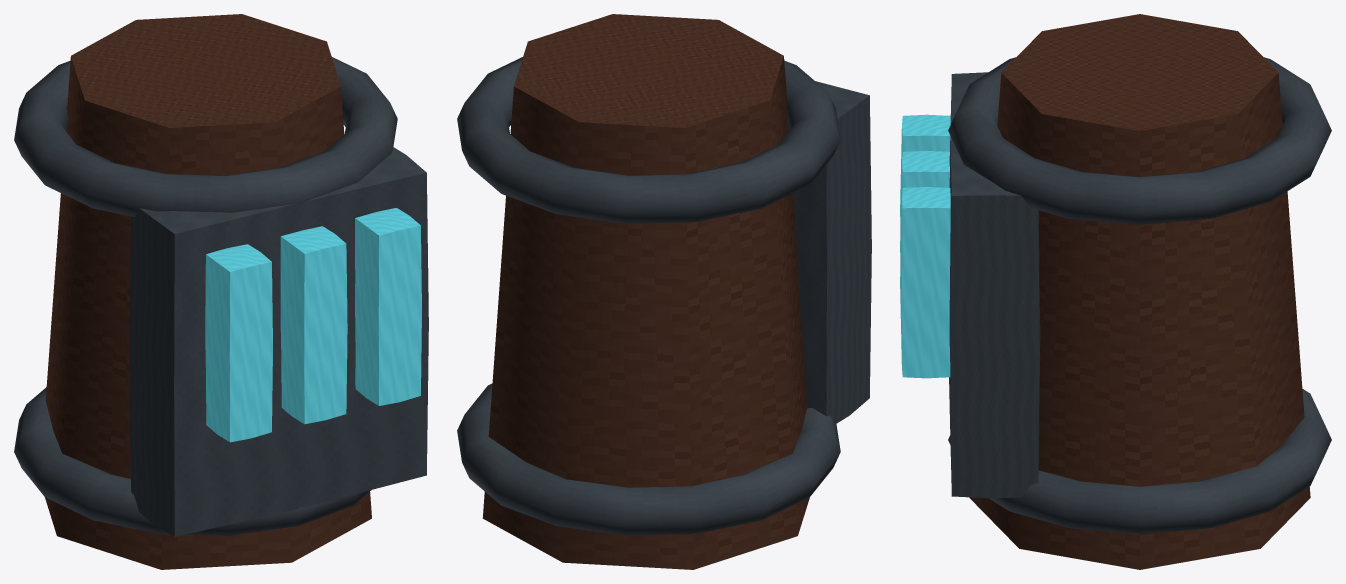
Rendered from wrist-emitter.lod2.glb.
3 views of the same model, side by side, from view 1: azimuth 30°, elevation 25°; view 2: azimuth 150°, elevation 25°; view 3: azimuth 270°, elevation 25° (orthographic).
Parts seen in each view (by area): view 1: leather.0, iron.3, iron.2, crystal.4, crystal.5, crystal.6, iron.1; view 2: leather.0, iron.2, iron.1, iron.3; view 3: leather.0, iron.3, iron.2, iron.1, crystal.6, crystal.4, crystal.5.
Boxes of the visible parts, bbox=[...] form: leather.0: bbox=[45, 14, 371, 569]; iron.3: bbox=[129, 147, 428, 536]; iron.2: bbox=[14, 57, 397, 216]; crystal.4: bbox=[205, 244, 272, 442]; crystal.5: bbox=[280, 226, 347, 424]; crystal.6: bbox=[355, 208, 421, 405]; iron.1: bbox=[14, 387, 371, 535]; leather.0: bbox=[482, 14, 809, 569]; iron.2: bbox=[457, 57, 840, 223]; iron.1: bbox=[457, 383, 840, 535]; iron.3: bbox=[793, 81, 871, 424]; leather.0: bbox=[969, 14, 1310, 569]; iron.3: bbox=[949, 72, 1040, 498]; iron.2: bbox=[948, 57, 1331, 224]; iron.1: bbox=[948, 389, 1331, 534]; crystal.6: bbox=[900, 187, 950, 378]; crystal.4: bbox=[900, 114, 950, 224]; crystal.5: bbox=[900, 150, 949, 260].
Size of the model in its own units: 0.18 by 0.22 by 0.2025.
3 materials, 3 textured.
